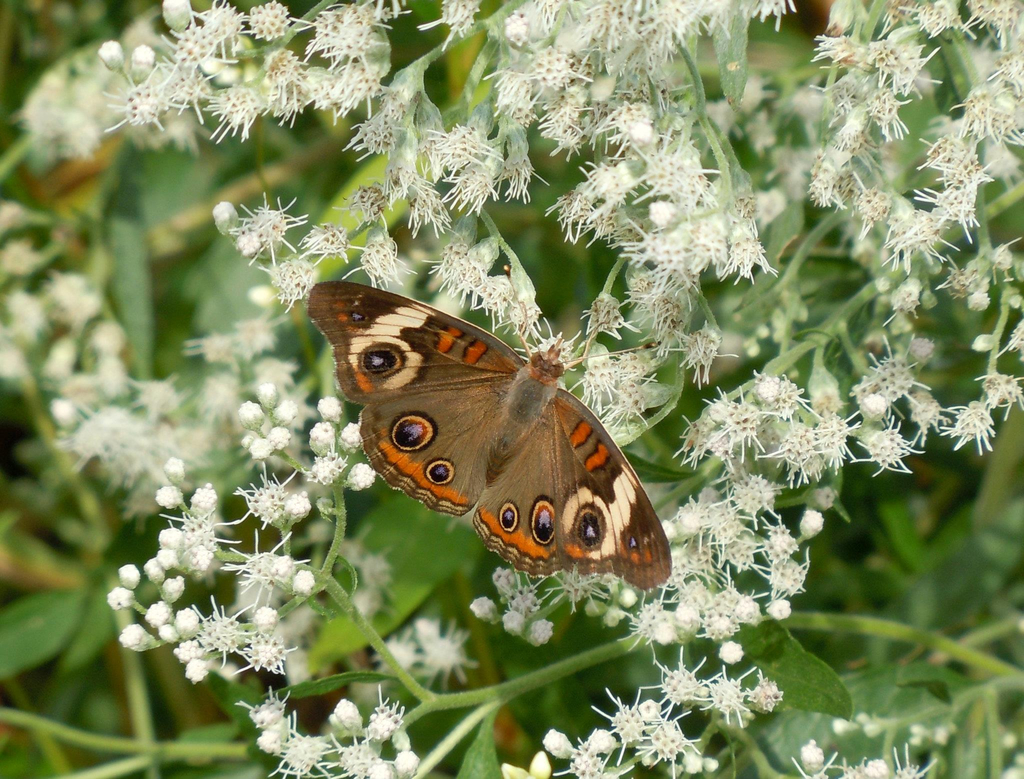Butterfly: (289, 265, 702, 614)
